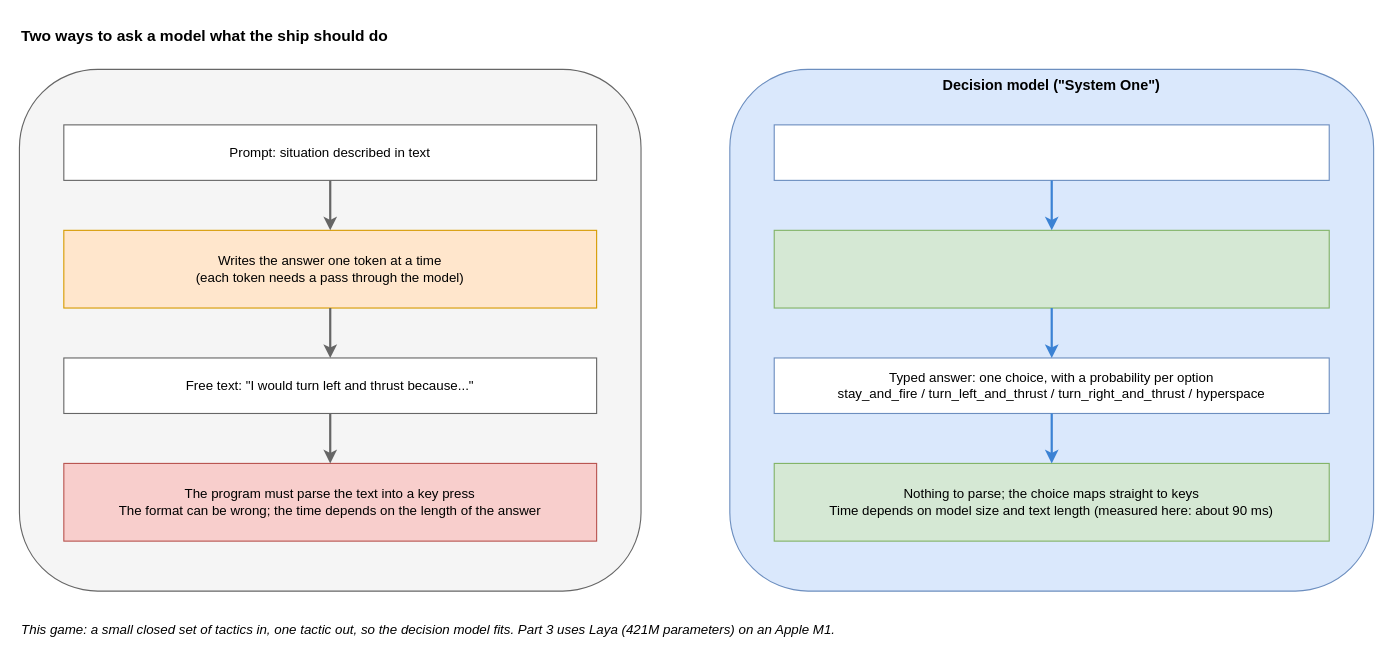
Image size: 1393x665. Some labels were removed from this diagram. The shapes that lost their labels are listed below. From the top down, each one's box as (x1, y1, x2, y2) in pixels, then its label:
(773, 124, 1329, 180): State sentence + a typed question with a closed set of options
(773, 229, 1329, 308): One forward pass scores every option together (no generation step)
(18, 68, 641, 591): Generative model ("System Two")
